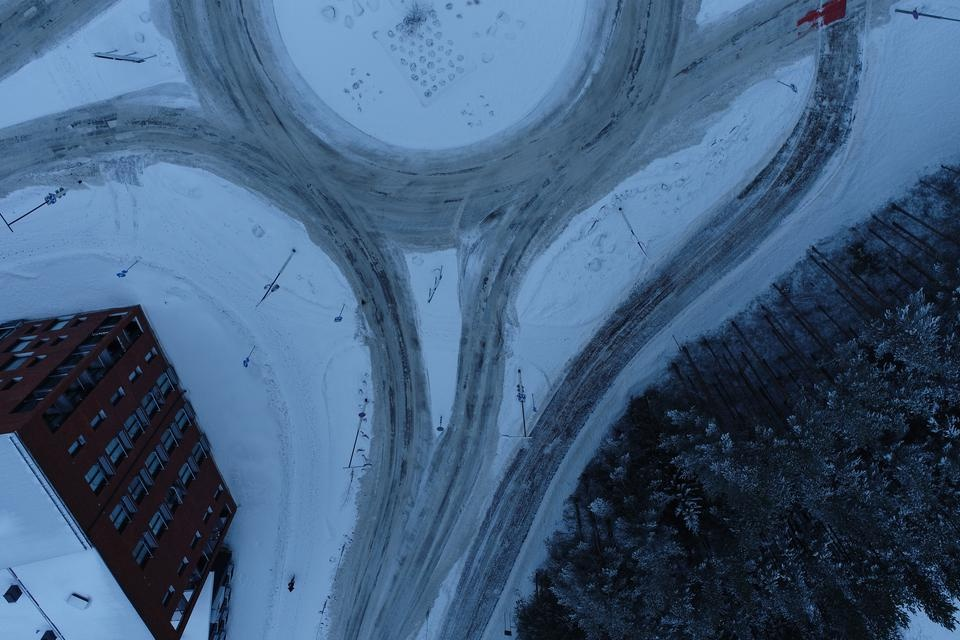roundabout: (110, 0, 769, 283)
